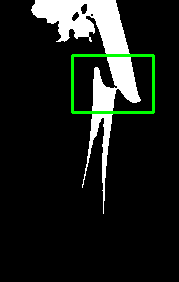fracture: (73, 55, 153, 112)
